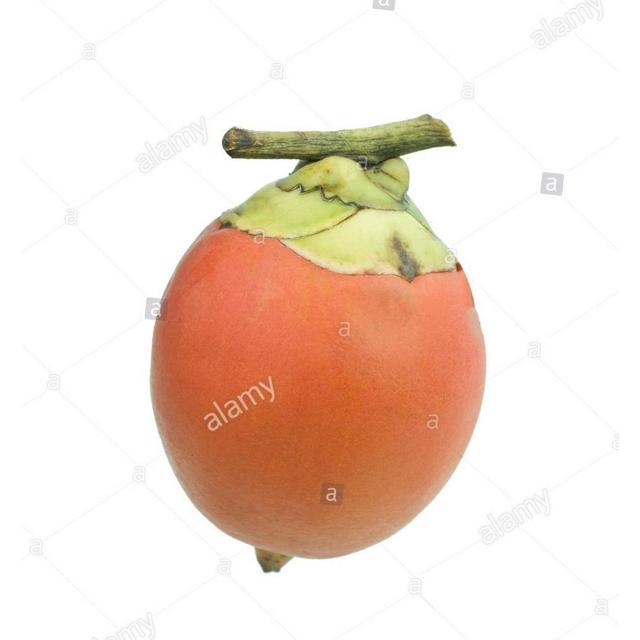good: (149, 134, 488, 562)
